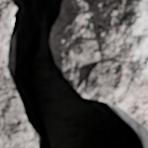broken_brick: (53, 0, 147, 130), (0, 0, 39, 147)
crack: (1, 0, 145, 147)
